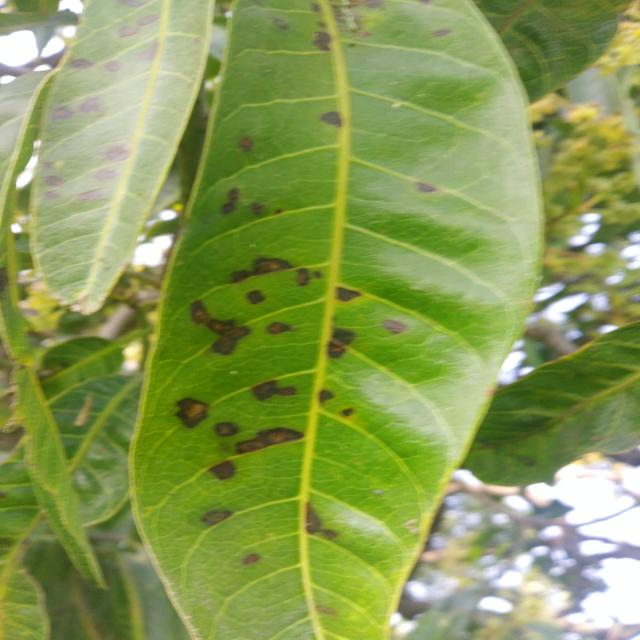Anthracnose: (202, 298, 249, 358), (233, 419, 304, 458), (210, 318, 253, 361), (251, 375, 298, 403), (176, 390, 212, 426), (324, 324, 357, 363), (259, 424, 304, 447), (252, 253, 293, 276), (200, 502, 234, 529), (185, 298, 212, 328), (209, 458, 238, 485), (219, 185, 243, 217), (251, 377, 280, 403), (331, 323, 357, 348), (136, 41, 163, 65), (235, 436, 269, 455), (205, 316, 235, 336), (306, 503, 323, 534), (318, 107, 344, 127), (312, 30, 333, 52), (228, 266, 252, 285), (269, 14, 292, 33), (104, 144, 129, 161), (103, 56, 123, 76), (237, 135, 257, 155), (78, 97, 101, 114), (337, 287, 361, 303), (382, 319, 407, 333), (76, 189, 105, 201), (315, 603, 338, 618), (248, 198, 266, 217), (50, 106, 74, 120), (241, 551, 262, 567), (267, 322, 294, 334), (215, 422, 238, 436), (246, 289, 265, 305), (70, 58, 94, 70), (94, 168, 117, 180), (137, 14, 160, 26), (296, 268, 311, 286), (414, 182, 437, 193), (117, 25, 138, 37), (308, 0, 323, 16), (226, 188, 241, 202), (44, 189, 61, 201), (118, 0, 147, 7), (44, 176, 64, 186), (319, 390, 334, 402), (278, 386, 297, 395), (221, 202, 235, 214), (432, 29, 452, 37), (322, 529, 338, 539), (341, 408, 354, 416), (313, 270, 324, 278), (275, 208, 284, 214), (0, 492, 7, 499)
